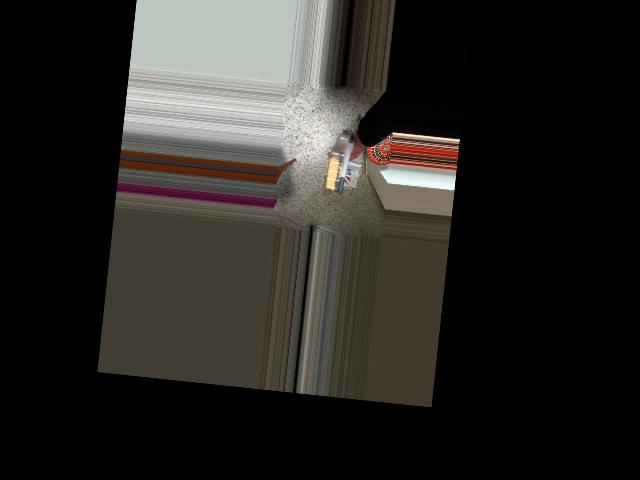cheese: (307, 139, 387, 198)
